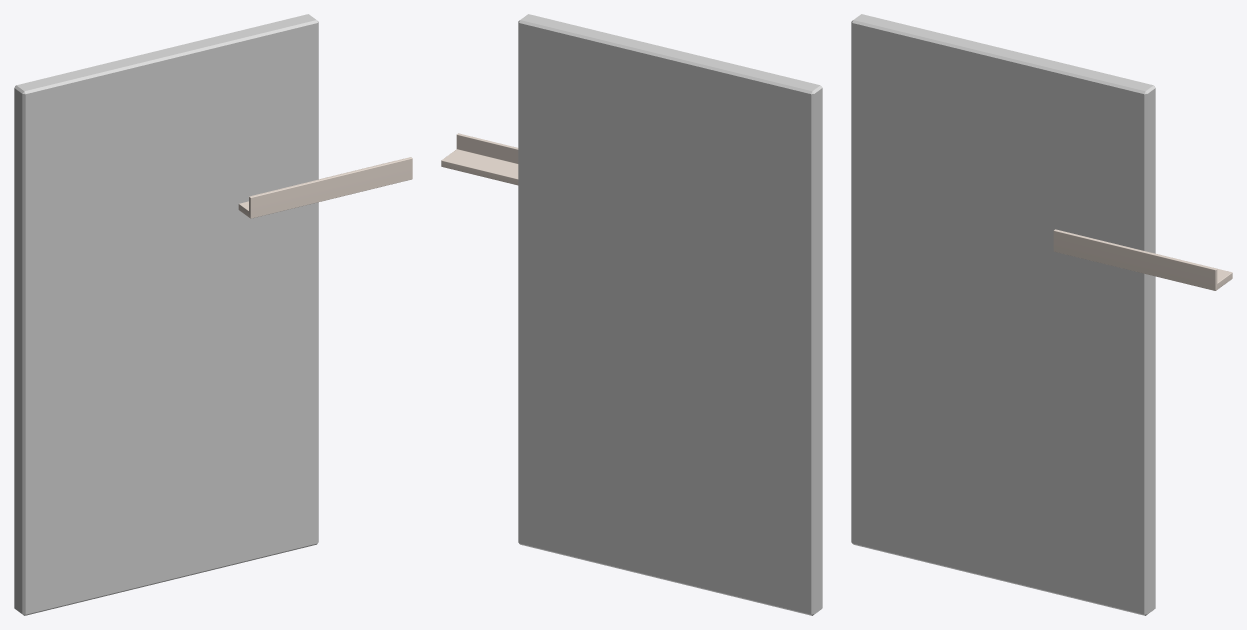
Rendered from Cabinet_ecc00a2d.obj.
The picture shows the model from 3 angles, left to right: view 1: azimuth 30°, elevation 25°; view 2: azimuth 150°, elevation 25°; view 3: azimuth 330°, elevation 25°; orthographic projection.
Parts seen in each view (by area): view 1: DoorMesh_01_3e224303, handle_3_178mm_01_d322e5a2; view 2: DoorMesh_01_3e224303, handle_3_178mm_01_d322e5a2; view 3: DoorMesh_01_3e224303, handle_3_178mm_01_d322e5a2.
Part boxes in pixels (<box>): DoorMesh_01_3e224303: <box>14,14,318,615</box>; handle_3_178mm_01_d322e5a2: <box>238,157,412,218</box>; DoorMesh_01_3e224303: <box>518,14,822,615</box>; handle_3_178mm_01_d322e5a2: <box>441,133,518,185</box>; DoorMesh_01_3e224303: <box>851,14,1155,615</box>; handle_3_178mm_01_d322e5a2: <box>1053,229,1232,290</box>.
Size of the model in its own units: 0.414 by 0.55 by 0.0426.
